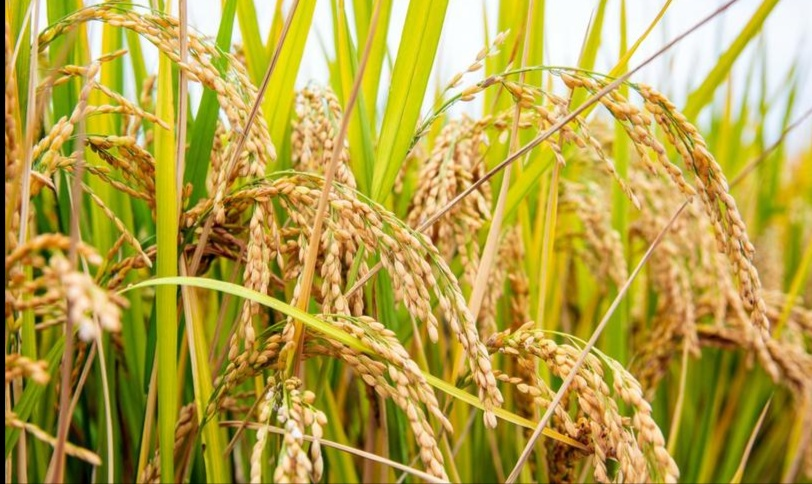rice: (499, 57, 784, 334), (169, 162, 447, 326), (211, 308, 450, 478), (40, 4, 285, 163), (457, 324, 678, 481)
